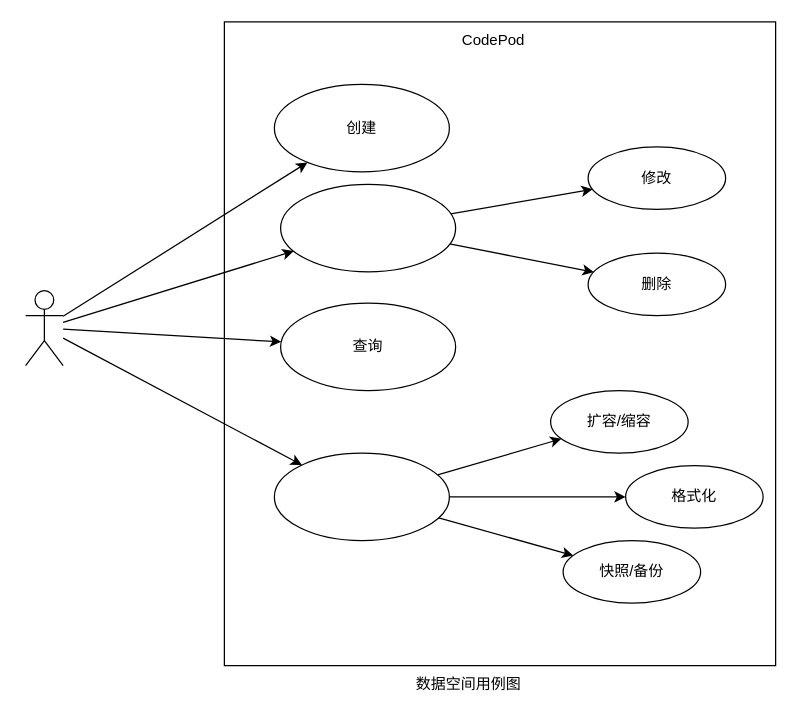
Some shapes in this 798 by 725 pixel diagram are drawn without their labels. The shapes that lost their labels are listed below. From the top down, each one's box as (x1, y1, x2, y2) in pixels, then its label:
(279, 183, 456, 272): 管理
(24, 289, 63, 366): 程序猿
(273, 452, 449, 541): 控制
